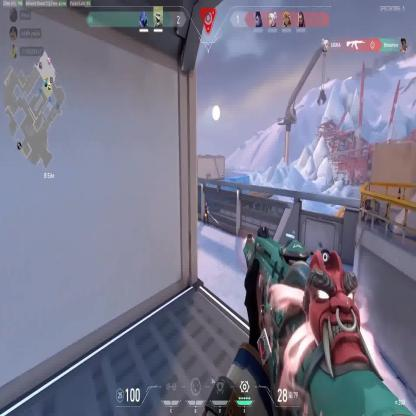enemy: (204, 200, 209, 225)
enemy_head: (204, 200, 208, 208)
